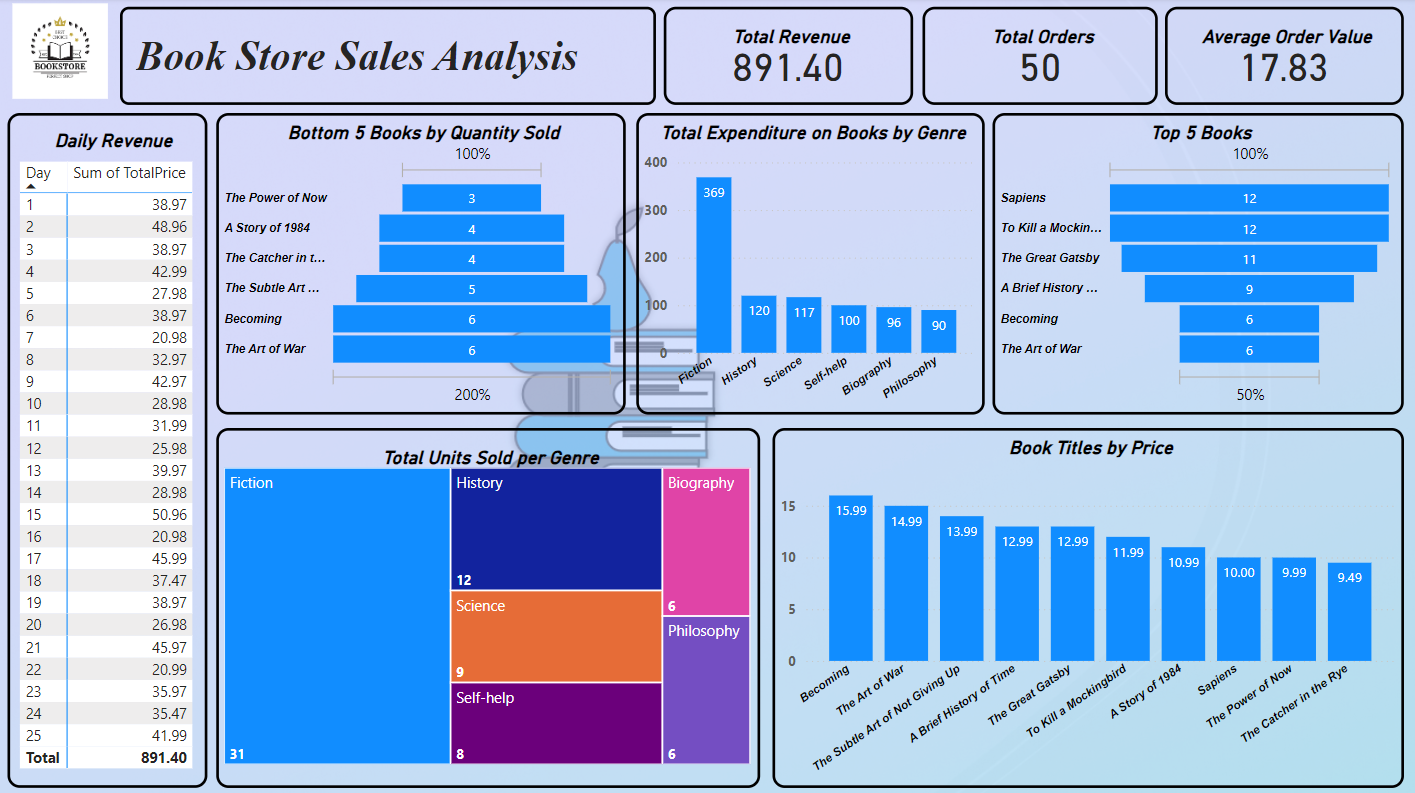

The page's visual inventory and layout, read from the dashboard file:
{"tool":"powerbi","page":{"name":"Dashboard","canvas":[1280,720],"ordinal":0},"visuals":[{"type":"image","box":[0,0,1280,720.6],"z":0},{"type":"card","title":"Total Revenue","fields":{"Values":["Sum(Sales Data.TotalPrice)"]},"box":[600.2,8,225.9,88.6],"z":1000},{"type":"card","title":"Total Orders","fields":{"Values":["CountNonNull(Sales Data.OrderID)"]},"box":[834.1,8,213,88.6],"z":2000},{"type":"columnChart","title":"Book Titles by Price","fields":{"Category":["Book Data.Title"],"Y":["Sum(Book Data.Price)"]},"box":[698.7,389.2,571.3,325.5],"z":3000},{"type":"treemap","title":"Total Units Sold per Genre","fields":{"Group":["Book Data.Genre"],"Values":["Sum(Sales Data.Quantity)"]},"box":[196.1,389.2,491.7,325.5],"z":4000},{"type":"funnel","title":"Top 5 Books","fields":{"Category":["Book Data.Title"],"Y":["Sum(Sales Data.Quantity)"]},"box":[897.8,104.5,372.3,272.7],"z":5000},{"type":"card","title":"Average Order Value","fields":{"Values":["Book Data.Avg"]},"box":[1054.1,8,216,88.6],"z":6000},{"type":"columnChart","title":"Total Expenditure on Books by Genre","fields":{"Category":["Book Data.Genre"],"Y":["Sum(Sales Data.TotalPrice)"]},"box":[575.3,104.5,315.5,272.7],"z":7000},{"type":"pivotTable","title":"Daily Revenue","fields":{"Rows":["Sales Data.Date.Variation.Date Hierarchy.Day"],"Values":["Sum(Sales Data.TotalPrice)"]},"box":[7,104.5,181.2,610.1],"z":8000},{"type":"funnel","title":"Bottom 5 Books by Quantity Sold","fields":{"Category":["Book Data.Title"],"Y":["Sum(Sales Data.Quantity)"]},"box":[196.1,104.5,370.3,272.7],"z":9000},{"type":"image","box":[0,0,108.5,96.5],"z":10000},{"type":"textbox","box":[108.5,8,484.7,88.6],"z":11000}]}

Visuals, with their boxes in screenshot pixels (x1, y1, x2, y2), scaled from the page's 1280x720 canvas onto the 1415x793 screenshot:
image: detection(0, 0, 1414, 792)
"Total Revenue" card: detection(664, 9, 913, 106)
"Total Orders" card: detection(922, 9, 1158, 106)
"Book Titles by Price" columnChart: detection(772, 429, 1404, 787)
"Total Units Sold per Genre" treemap: detection(217, 429, 760, 787)
"Top 5 Books" funnel: detection(992, 115, 1404, 415)
"Average Order Value" card: detection(1165, 9, 1404, 106)
"Total Expenditure on Books by Genre" columnChart: detection(636, 115, 985, 415)
"Daily Revenue" pivotTable: detection(8, 115, 208, 787)
"Bottom 5 Books by Quantity Sold" funnel: detection(217, 115, 626, 415)
image: detection(0, 0, 120, 106)
textbox: detection(120, 9, 656, 106)
